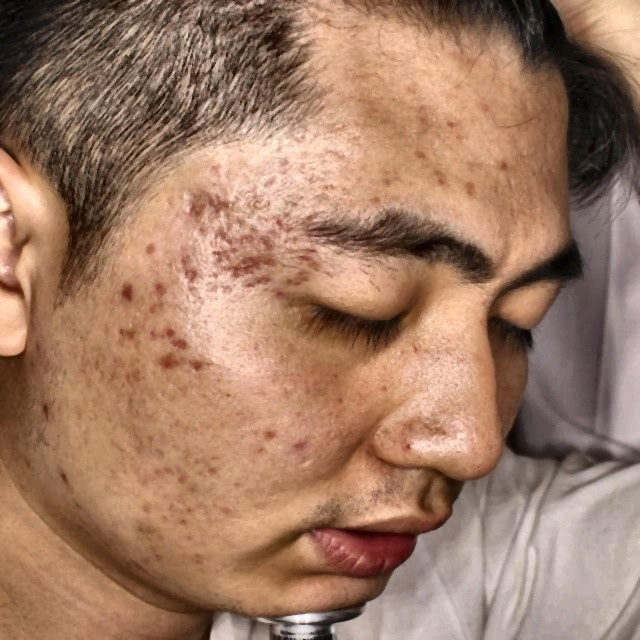pustule: (260, 224, 294, 269), (456, 168, 481, 200), (133, 227, 161, 255), (231, 252, 257, 281), (213, 198, 248, 217), (175, 251, 202, 275), (118, 278, 144, 302), (155, 350, 181, 373), (210, 225, 234, 244), (148, 278, 168, 299), (155, 323, 178, 340), (187, 191, 200, 217), (169, 337, 185, 346)
